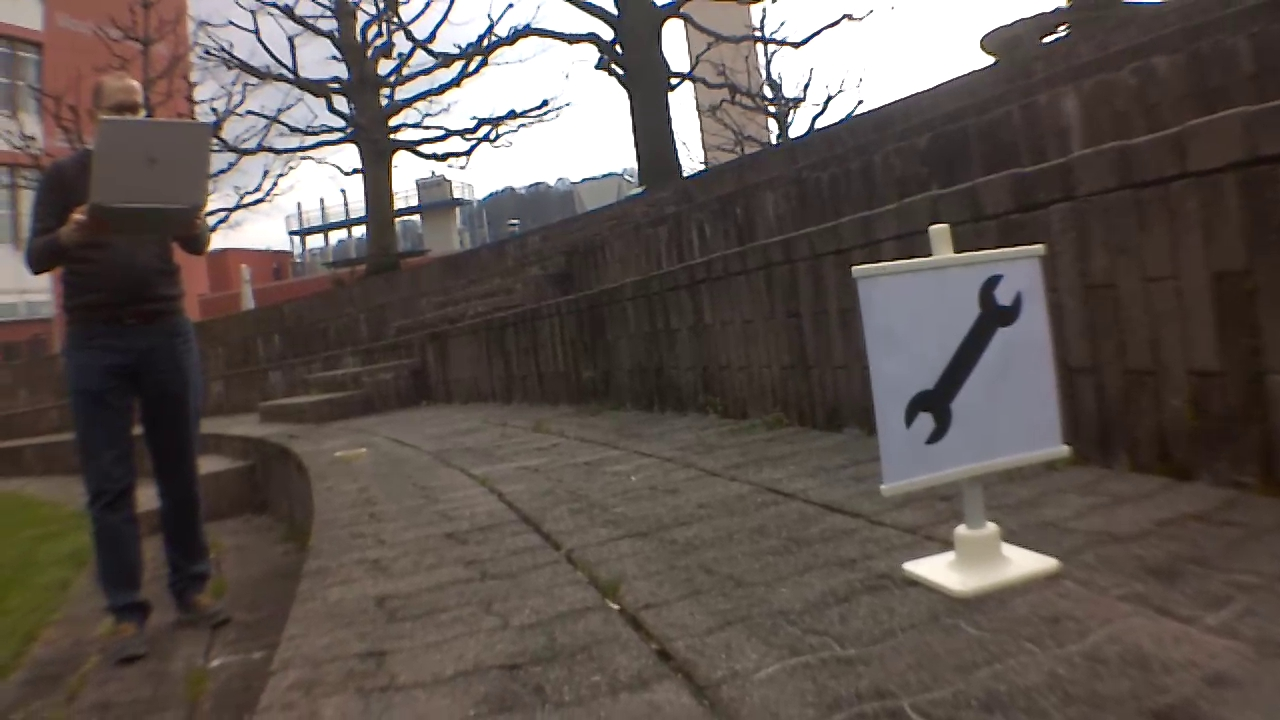wrench: (900, 271, 1026, 443)
